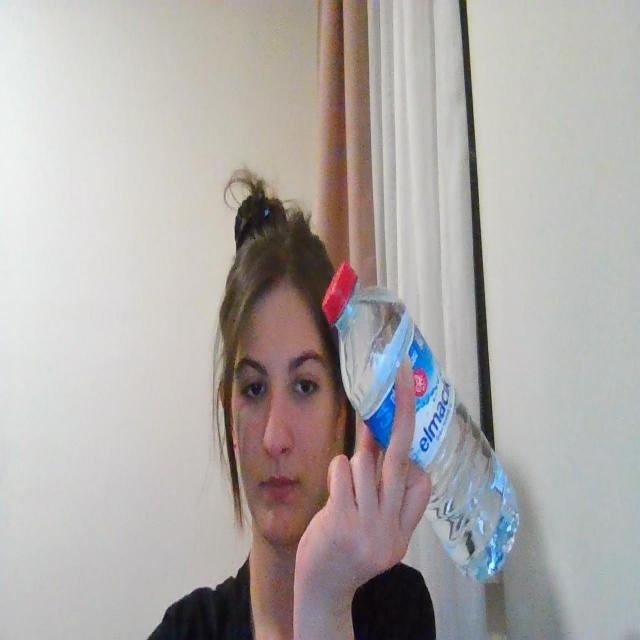bottle: (318, 256, 523, 584)
